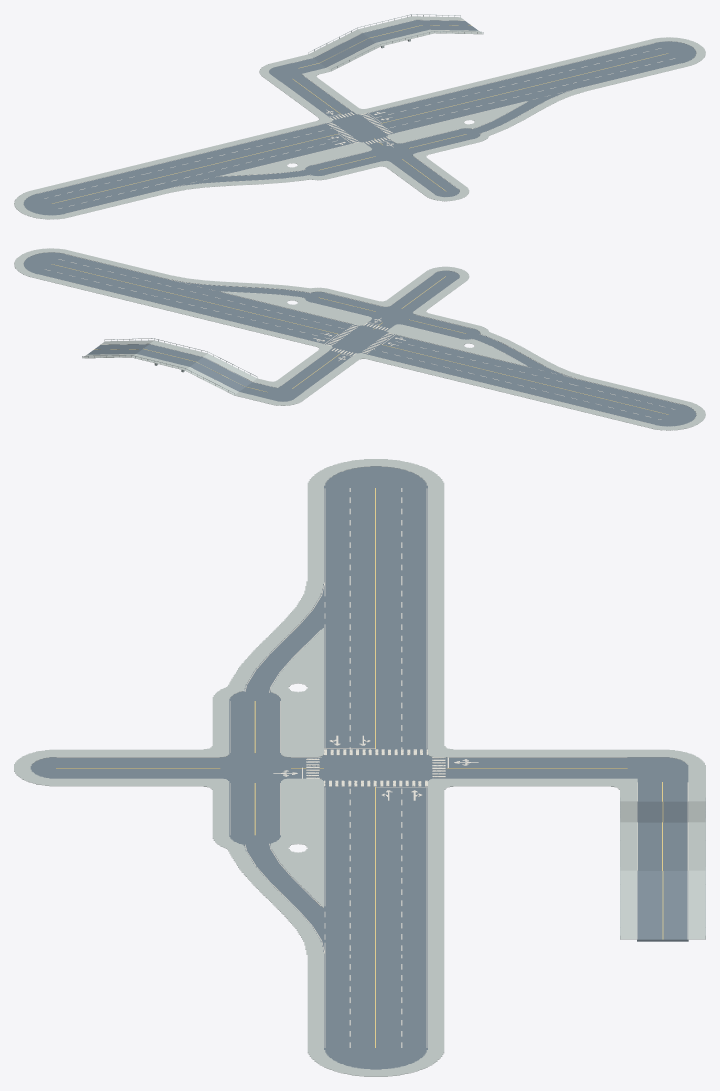
File: network-w59-s39.glb
3 views of the same model, one above another, from view 1: azimuth 30°, elevation 25°; view 2: azimuth 150°, elevation 25°; view 3: azimuth 270°, elevation 25° (orthographic). The views are drawn at different scales.
Parts seen in each view (by area): view 1: Road_surface, Sidewalks, Lane_markings, Ramp_surface, Crosswalks, Bridge_railings; view 2: Road_surface, Sidewalks, Lane_markings, Ramp_surface, Crosswalks, Bridge_railings; view 3: Road_surface, Sidewalks, Lane_markings, Ramp_surface, Crosswalks.
Boxes of the visible parts, x1,y1,x2,y2 form: Road_surface: (23,20,696,215); Sidewalks: (14,16,705,219); Lane_markings: (38,20,681,213); Ramp_surface: (313,20,477,67); Crosswalks: (326,112,392,144); Bridge_railings: (308,14,483,70); Road_surface: (23,252,696,426); Sidewalks: (14,248,705,430); Lane_markings: (38,254,679,424); Ramp_surface: (87,344,251,391); Crosswalks: (326,323,393,355); Bridge_railings: (82,338,257,394); Road_surface: (30,466,688,1069); Sidewalks: (14,459,705,1076); Lane_markings: (56,488,688,1047); Ramp_surface: (637,801,688,941); Crosswalks: (306,749,445,786).
Bounding box in the file's own units: 331 × 7.51 × 157.
